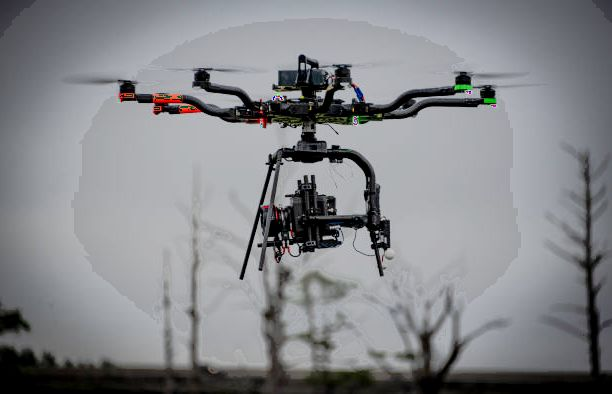Drone: (55, 50, 548, 284)
